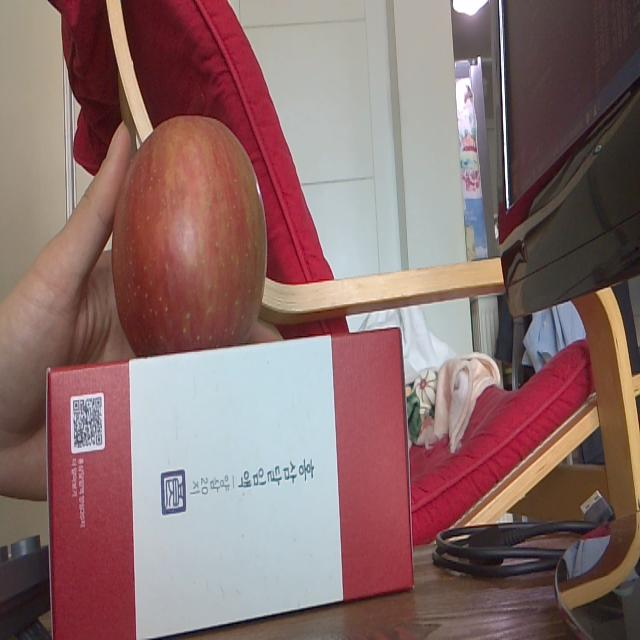apple: (112, 108, 272, 353)
